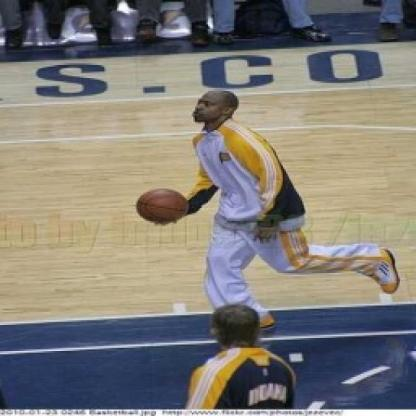basketball: (132, 185, 192, 227)
